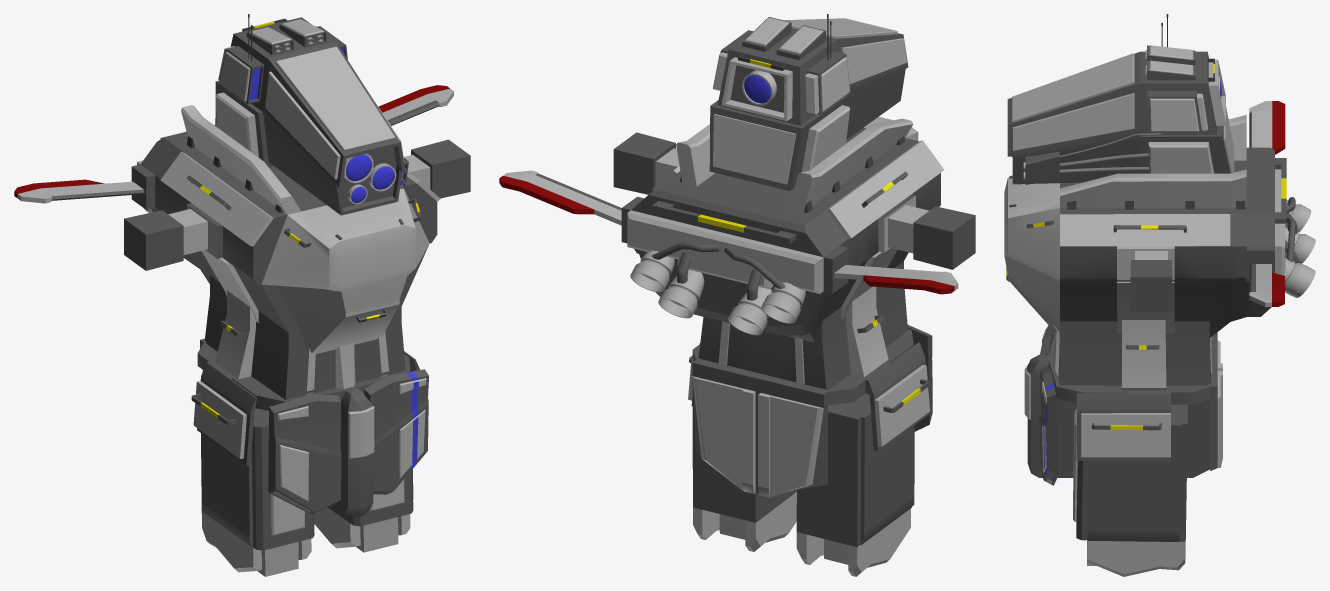
File: Frame_MainBody.fbx
3 views of the same model, side by side, from view 1: azimuth 30°, elevation 25°; view 2: azimuth 150°, elevation 25°; view 3: azimuth 270°, elevation 25° (orthographic). The views are drawn at different scales.
Visible parts, largest first — view 1: polySurface52, Head2, UpperRightLeg3, polySurface51, polySurface50, polySurface49, UpperLeftleg1; view 2: polySurface52, Head2, polySurface51, UpperRightLeg3, UpperLeftleg1, polySurface50; view 3: polySurface52, Head2, polySurface51, UpperLeftleg1, polySurface49.
Boxes of the visible parts, x1=… form: polySurface52: x1=14, y1=85, x2=470, y2=399; Head2: x1=215, y1=14, x2=408, y2=215; UpperRightLeg3: x1=201, y1=408, x2=314, y2=576; polySurface51: x1=191, y1=338, x2=419, y2=516; polySurface50: x1=268, y1=394, x2=341, y2=514; polySurface49: x1=364, y1=369, x2=428, y2=494; UpperLeftleg1: x1=314, y1=469, x2=413, y2=552; polySurface52: x1=499, y1=116, x2=975, y2=390; Head2: x1=709, y1=14, x2=908, y2=190; polySurface51: x1=688, y1=329, x2=929, y2=497; UpperRightLeg3: x1=796, y1=393, x2=914, y2=576; UpperLeftleg1: x1=692, y1=380, x2=796, y2=551; polySurface50: x1=907, y1=325, x2=932, y2=431; polySurface52: x1=1004, y1=101, x2=1315, y2=390; Head2: x1=1007, y1=14, x2=1234, y2=184; polySurface51: x1=1024, y1=332, x2=1222, y2=477; UpperLeftleg1: x1=1073, y1=404, x2=1187, y2=576; polySurface49: x1=1039, y1=365, x2=1057, y2=485.
Size of the model in its own units: 6.83 by 8.09 by 4.46.
